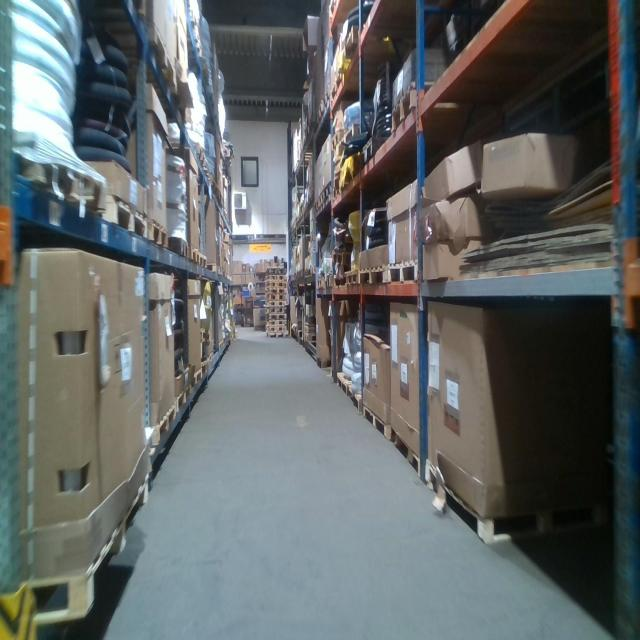pallet: (30, 469, 151, 631), (426, 457, 563, 543), (12, 157, 109, 211), (100, 186, 147, 246), (146, 22, 180, 101), (149, 392, 178, 454), (391, 428, 423, 473), (164, 140, 207, 168), (392, 81, 416, 131), (362, 406, 392, 437), (148, 217, 168, 253), (176, 376, 193, 417), (170, 231, 188, 268), (387, 261, 422, 280), (359, 265, 389, 287), (184, 26, 202, 55), (348, 389, 365, 414), (188, 366, 203, 392), (332, 271, 348, 293), (343, 268, 360, 288), (331, 249, 352, 264), (337, 372, 351, 394), (199, 324, 213, 345), (188, 243, 198, 268), (316, 357, 334, 370), (303, 332, 317, 344), (324, 273, 335, 288), (265, 320, 288, 327), (267, 294, 287, 302), (322, 184, 331, 200), (266, 275, 286, 282), (266, 268, 286, 275), (266, 314, 288, 320), (316, 276, 325, 290), (200, 252, 207, 270), (267, 331, 285, 338), (266, 308, 286, 314), (267, 288, 287, 294), (267, 302, 286, 308), (267, 282, 286, 288), (200, 357, 208, 371), (265, 327, 287, 332), (219, 339, 224, 349), (308, 268, 314, 275), (304, 268, 308, 278), (209, 351, 213, 361), (299, 270, 305, 276), (296, 273, 301, 278)
